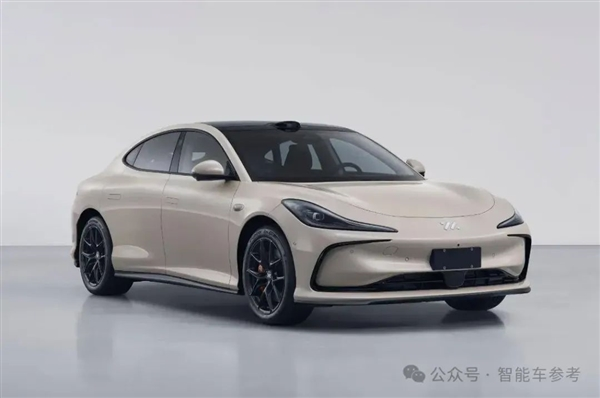other: (64, 123, 533, 331)
